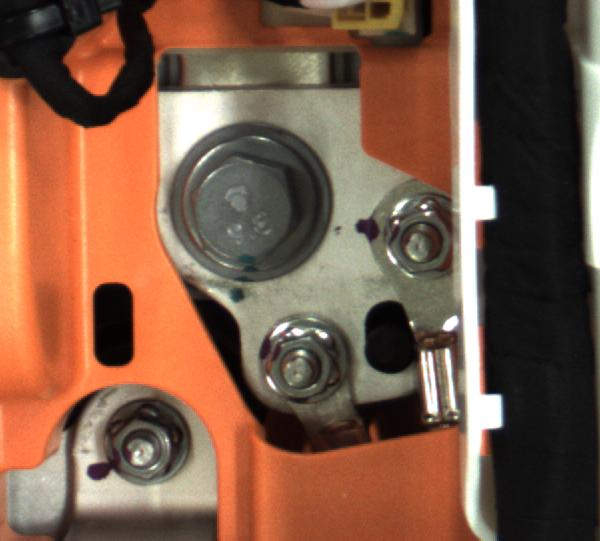nut_b: (163, 126, 355, 289)
screw_s: (83, 402, 204, 493), (371, 201, 473, 283), (254, 319, 356, 393)
